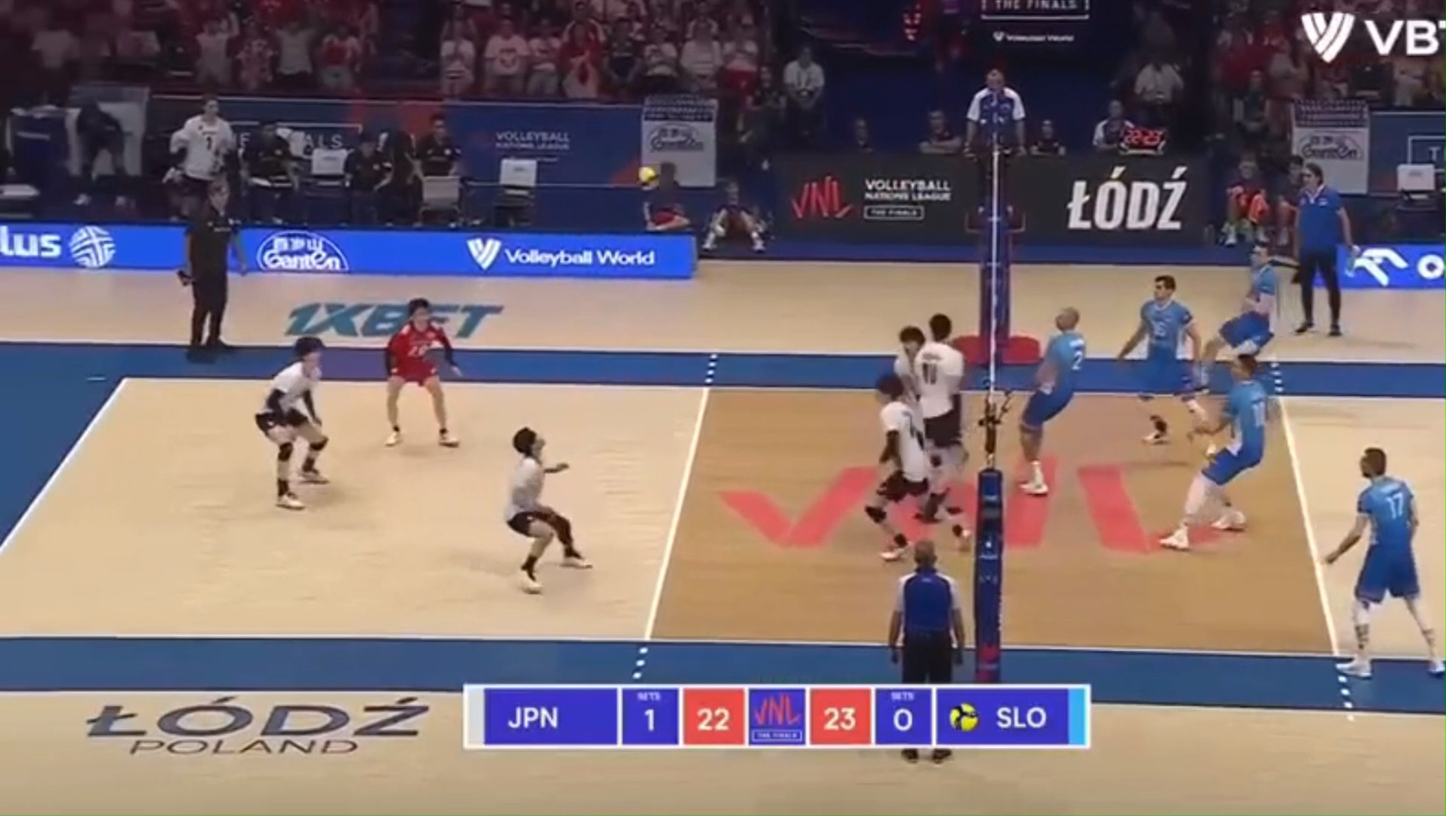ball: (638, 166, 657, 184)
player: (1323, 447, 1445, 679), (1160, 354, 1271, 549), (1020, 307, 1086, 496), (1119, 275, 1205, 419), (1196, 243, 1277, 390), (1143, 413, 1169, 444)
player 1: (504, 427, 591, 593), (254, 335, 329, 509), (864, 372, 930, 561), (178, 179, 243, 360), (910, 314, 966, 519), (385, 298, 460, 447), (893, 326, 925, 417)
referee: (178, 179, 243, 360), (888, 540, 965, 684), (1295, 162, 1351, 336), (963, 70, 1025, 219), (931, 747, 952, 763)
